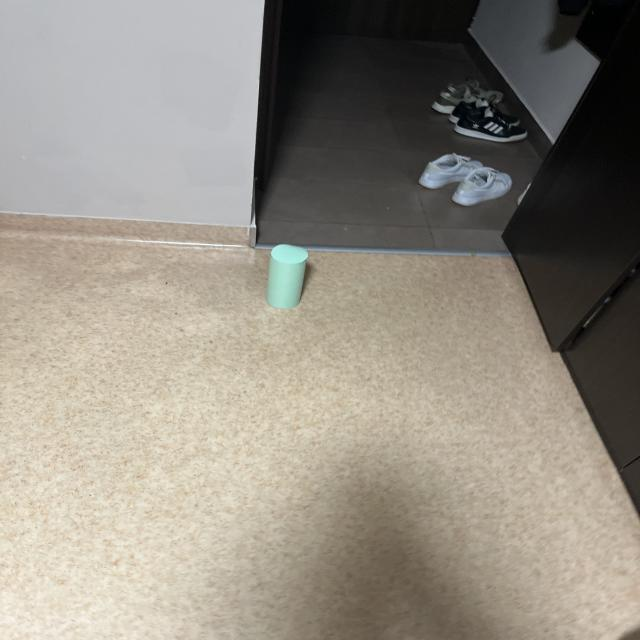meta: (266, 244, 308, 308)
